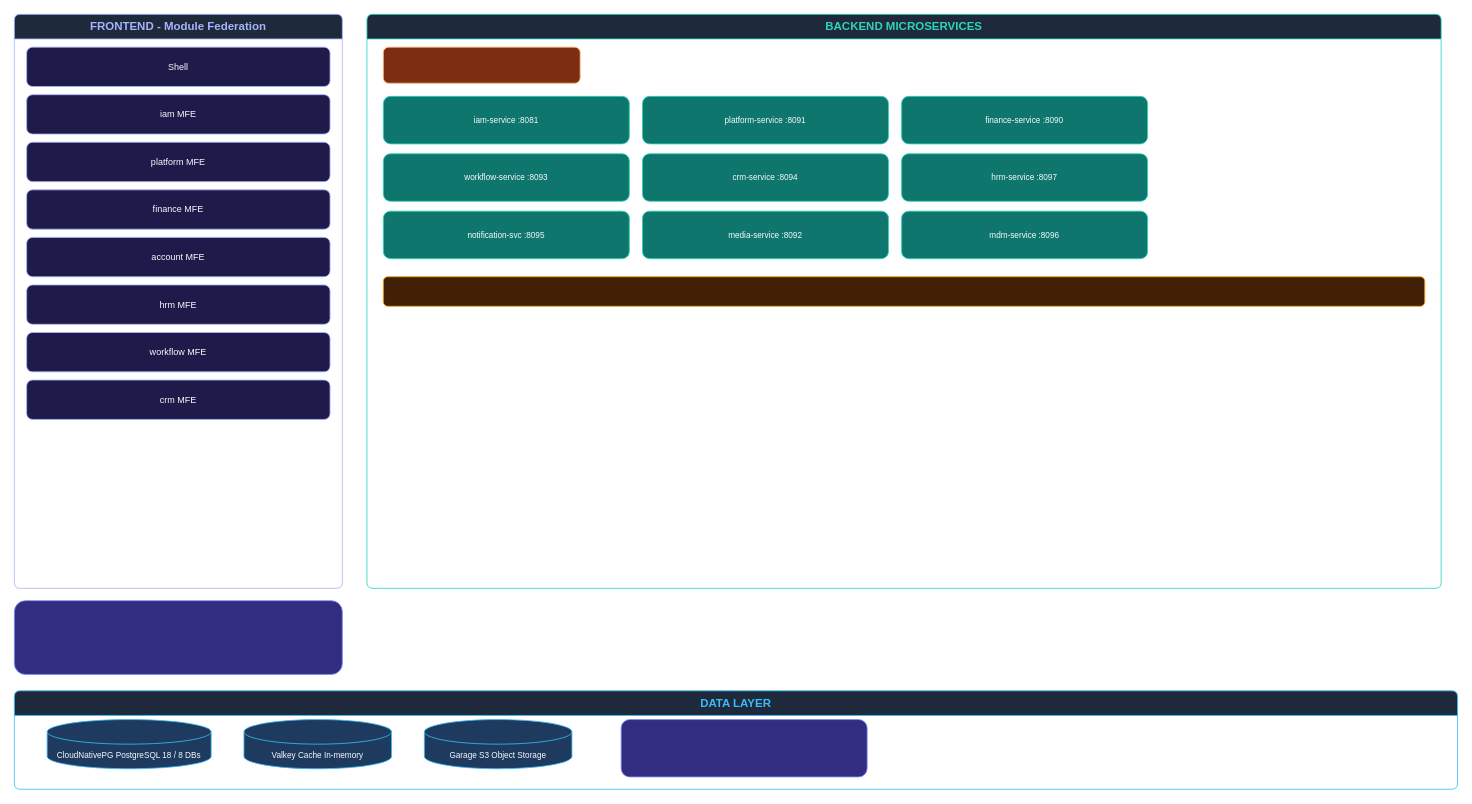
The diagram is 1472 pixels wide and 804 high, and some of its shapes have lost their labels. Here are the shapes that lost their labels. From the top down, the centre of each, then its label:
At point 481,64: "auth-gateway (BFF)".
At point 904,291: "HTTP/JSON + gRPC + NATS Async Events".
At point 178,637: "@workspace/shared ui / api / auth / i18n / theme / core".
At point 743,748: "Shared Go Libraries arda-auth/errors/events/grpc http/postgres/redis/proto".
